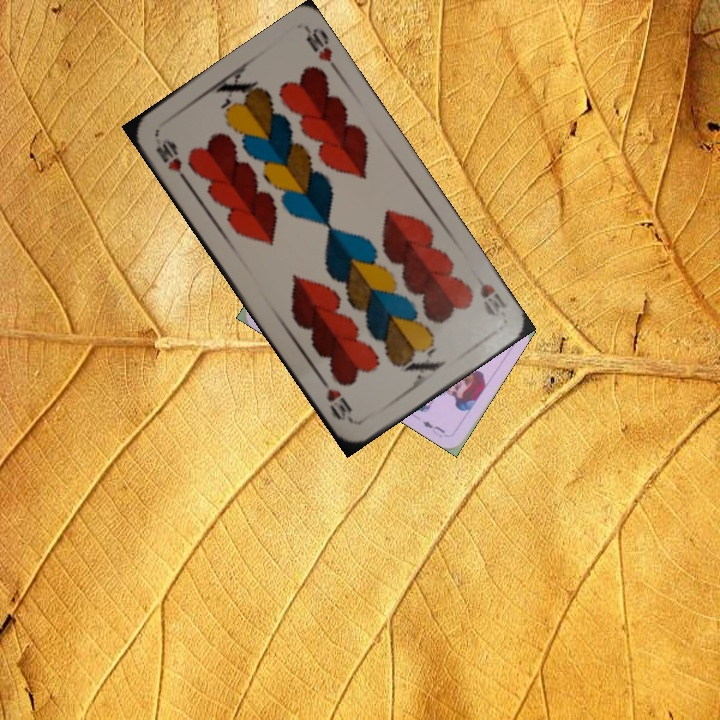H10: (151, 135, 190, 185), (471, 272, 510, 320)
